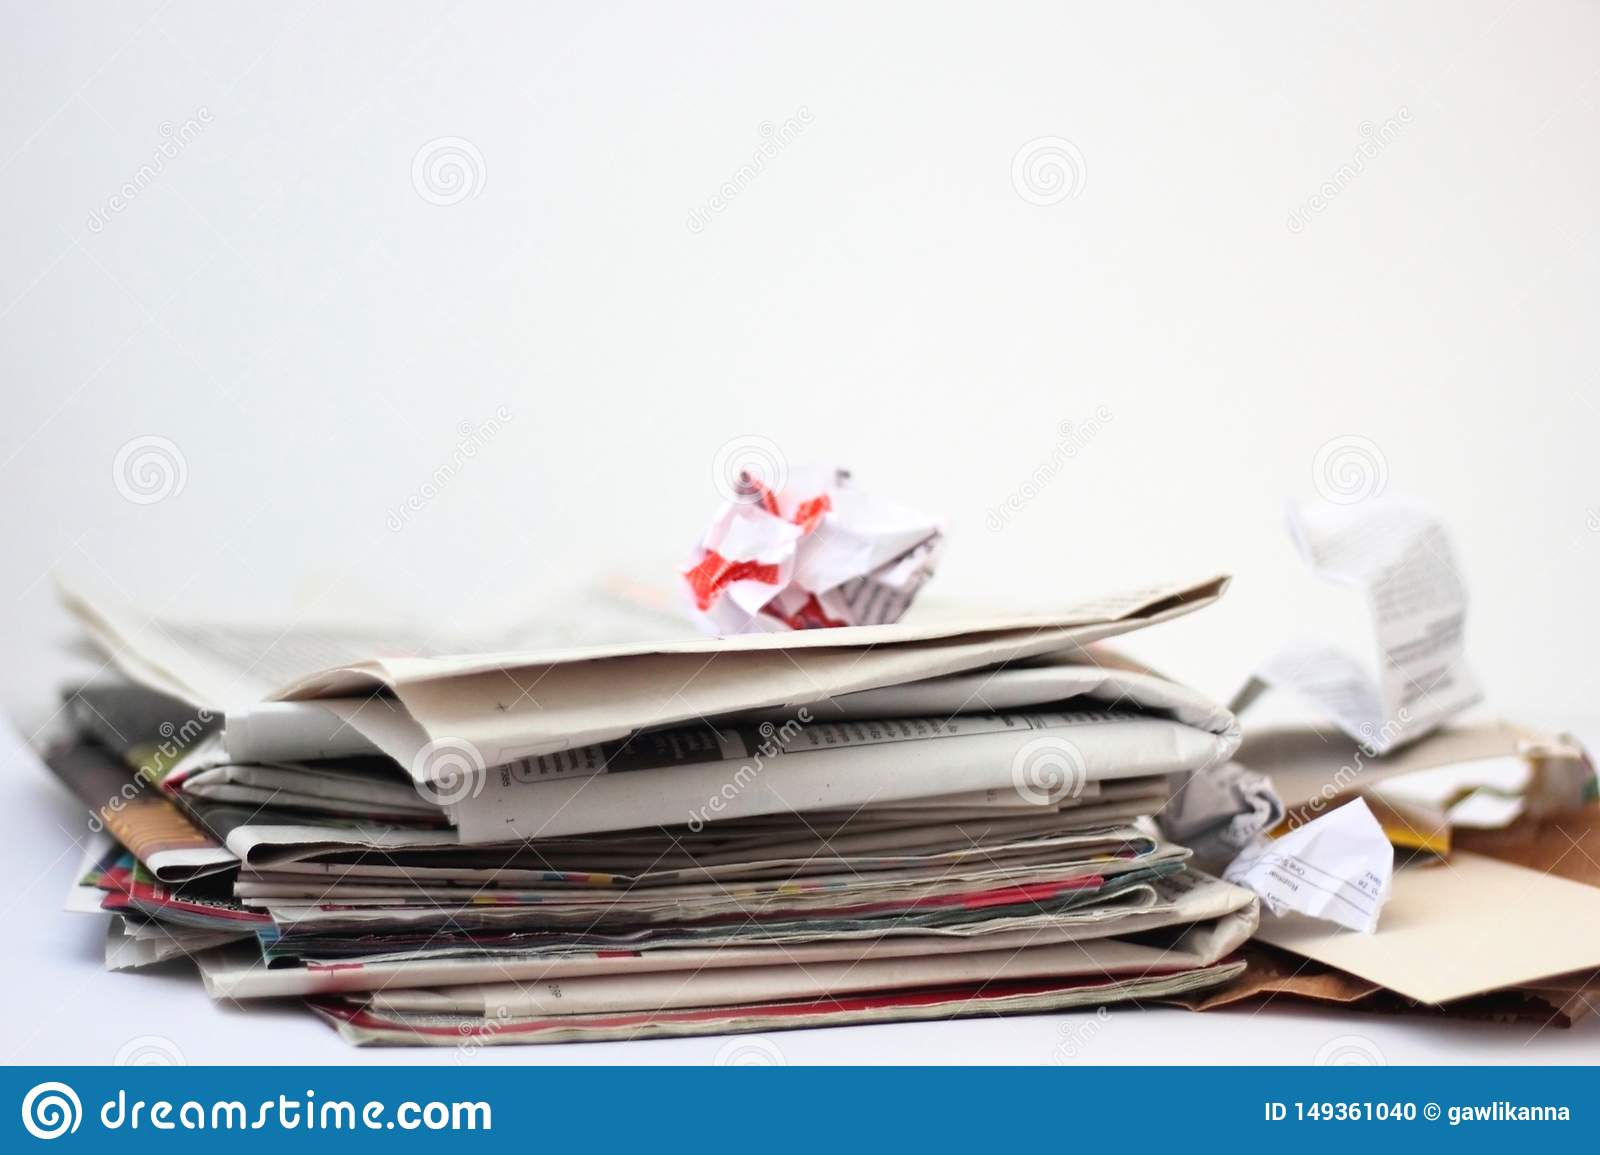paper: (1206, 406, 1525, 804), (564, 391, 983, 679)
